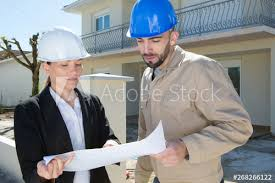Person_wearing_helmet: (124, 0, 180, 49), (34, 23, 90, 71)
